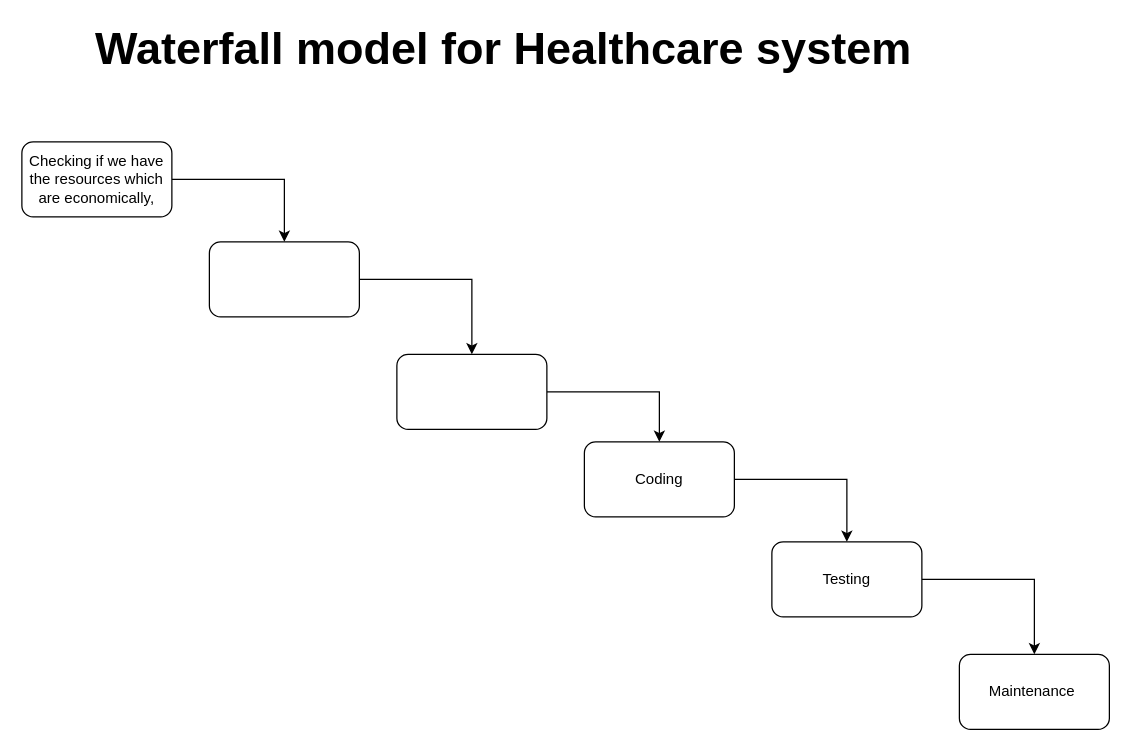
This 1131x751 diagram has some shape labels left out. The shapes that lost their labels are listed below. From the top down, each one's centre as x and y in pixels, then its label:
(x=283, y=279): Requirement Analysis
(x=471, y=391): Design
